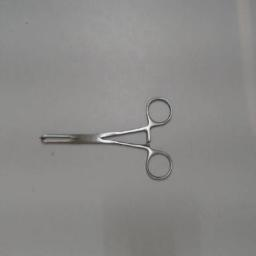Allis Tissue Forceps: (35, 93, 177, 189)
